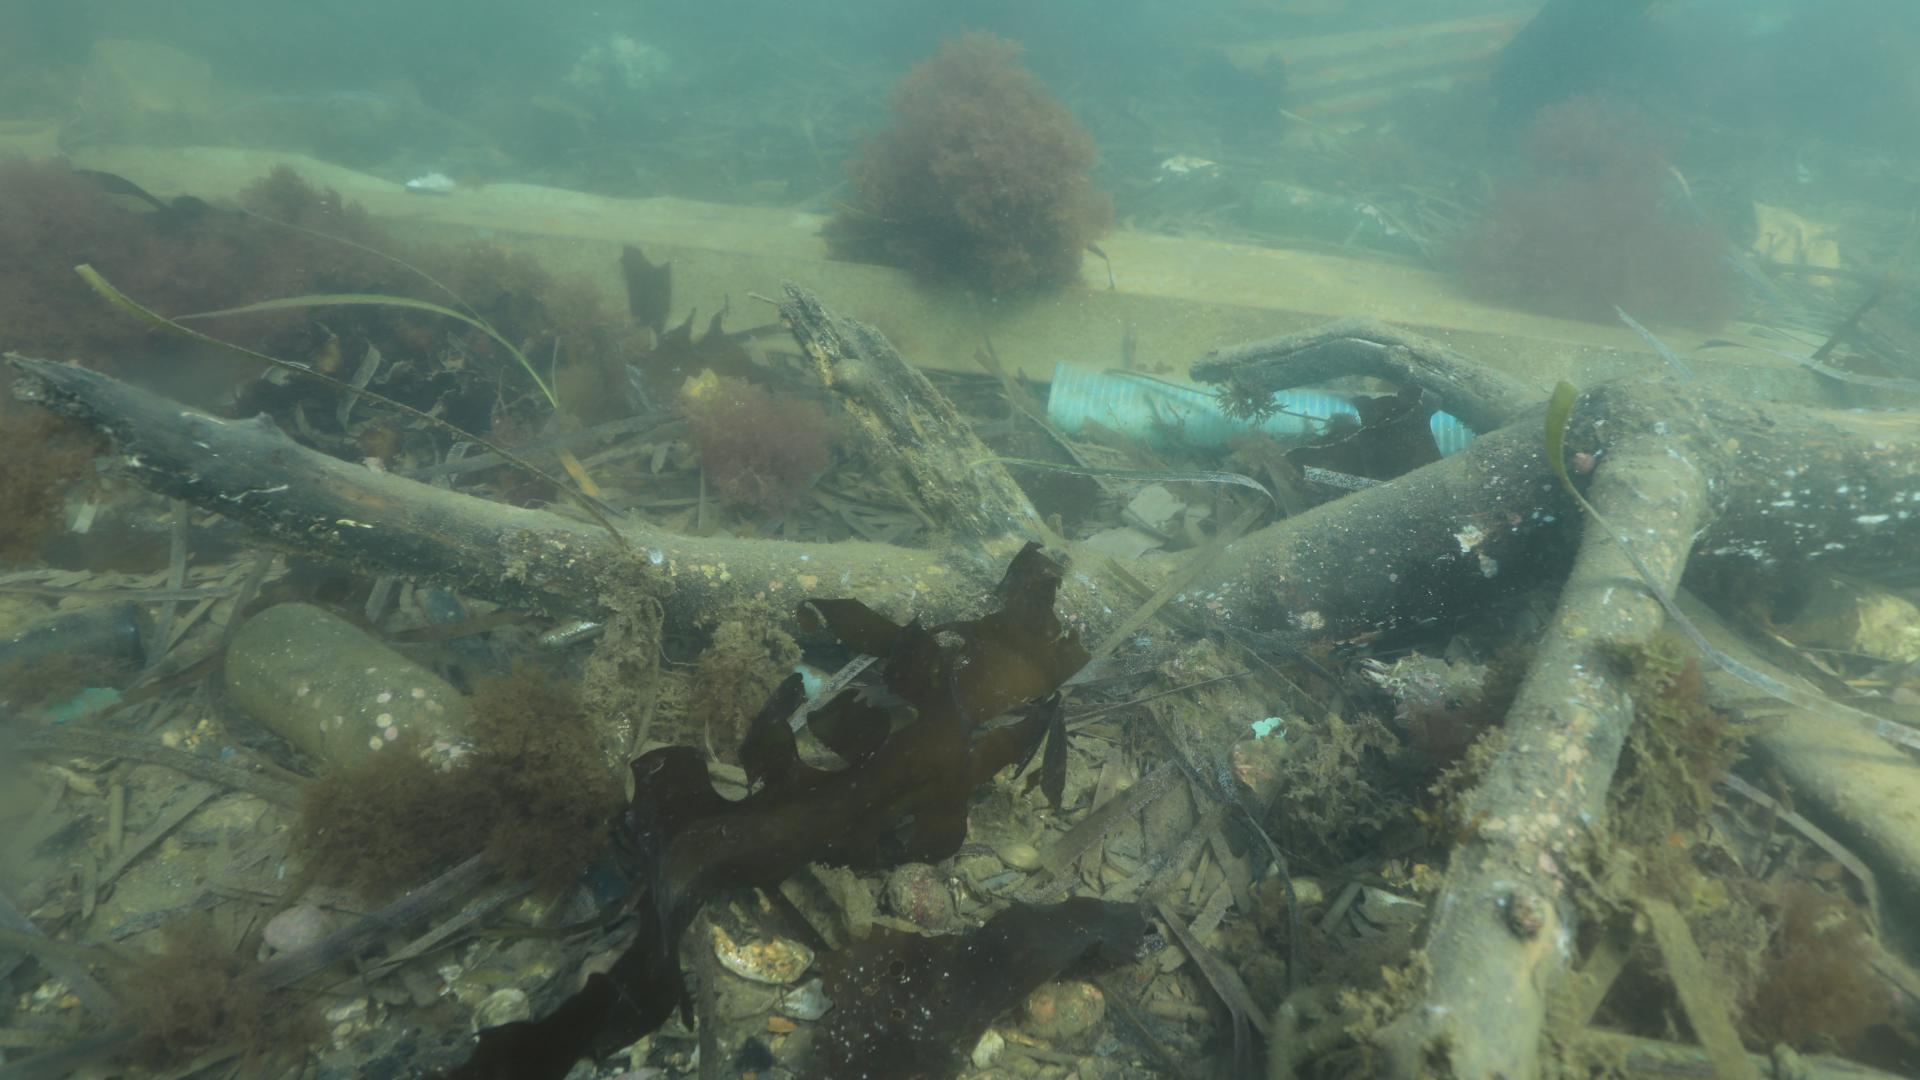wood: (0, 313, 1920, 1080)
